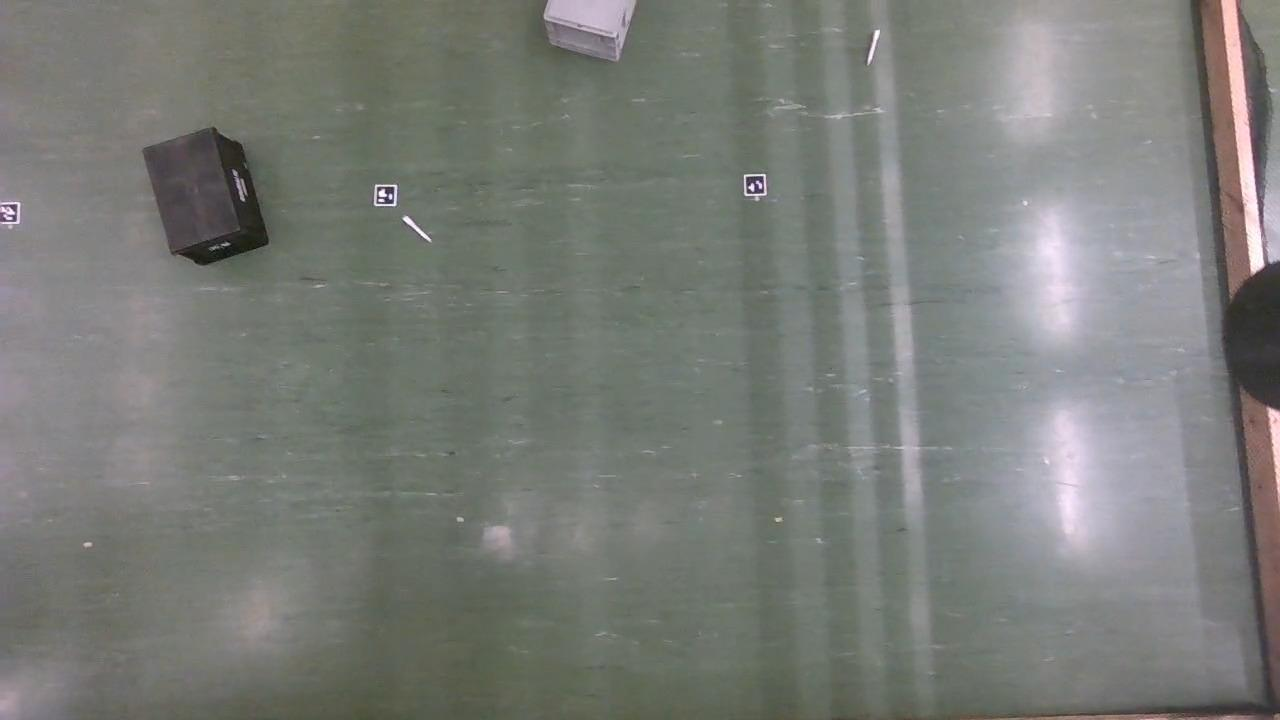probes: (404, 216, 431, 244), (870, 31, 879, 67)
rako: (143, 129, 269, 269), (544, 1, 635, 63)
